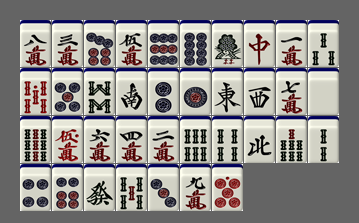0m: (52, 116, 83, 163)
0p: (212, 164, 243, 211)
0s: (20, 68, 51, 115)
1m: (276, 20, 307, 67)
1p: (180, 68, 211, 115)
1s: (212, 20, 243, 67)
1z: (212, 68, 243, 115)
2m: (148, 116, 179, 163)
2p: (148, 68, 179, 115)
2s: (308, 116, 339, 163)
2z: (116, 68, 147, 115)
3m: (52, 20, 83, 67)
3p: (148, 164, 179, 211)
3s: (308, 20, 339, 67)
3z: (244, 68, 275, 115)
4m: (116, 116, 147, 163)
4p: (20, 164, 51, 211)
4s: (212, 116, 243, 163)
4z: (244, 116, 275, 163)
5m: (116, 20, 147, 67)
5p: (52, 68, 83, 115)
5s: (116, 164, 147, 211)
5z: (308, 68, 339, 115)
6m: (84, 116, 115, 163)
6p: (52, 164, 83, 211)
6s: (180, 116, 211, 163)
6z: (84, 164, 115, 211)
7m: (276, 68, 307, 115)
7p: (84, 20, 115, 67)
7s: (276, 116, 307, 163)
7z: (244, 20, 275, 67)
8m: (20, 20, 51, 67)
8p: (180, 20, 211, 67)
8s: (84, 68, 115, 115)
9m: (180, 164, 211, 211)
9p: (148, 20, 179, 67)
9s: (20, 116, 51, 163)
